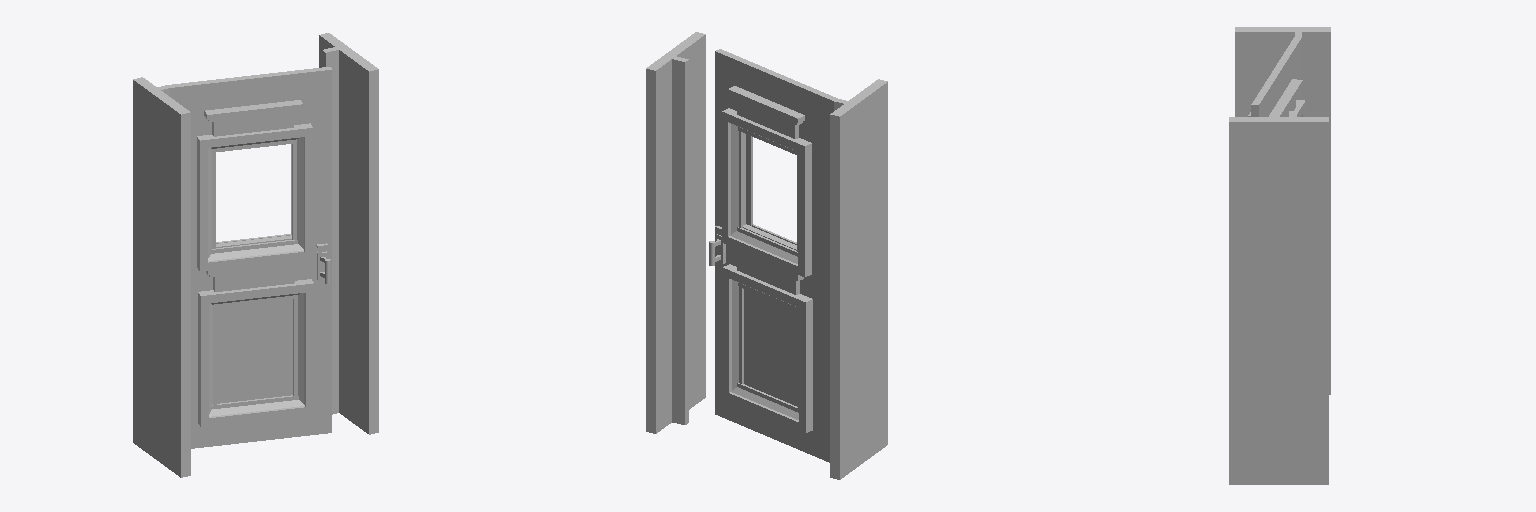
The model's file is Door opened classic N101218.obj.
3 renders of one model, left to right at view 1: azimuth 30°, elevation 25°; view 2: azimuth 150°, elevation 25°; view 3: azimuth 270°, elevation 25°, orthographic.
Parts seen in each view (by area): view 1: wall_1_74, wall_4_92, wall_5_98, wall_6_104, wall_4_91, wall_5_97, front_46_4, front_46_1, front_20_2, front_20_1, front_6_62, front_6_63 (+8 smaller); view 2: wall_4_92, wall_1_73, wall_7_110, wall_5_98, wall_6_103, wall_4_91, wall_7_109, front_46_2, front_46_3, slope_25_4, right_12_4, front_14_4 (+10 smaller); view 3: wall_5_97, wall_7_109, wall_4_91, wall_1_73.
Boxes of the visible parts, x1,y1,x2,y2 form: wall_1_74: [170, 70, 331, 448]; wall_4_92: [133, 80, 185, 477]; wall_5_98: [339, 50, 373, 434]; wall_6_104: [324, 50, 338, 414]; wall_4_91: [186, 112, 190, 476]; wall_5_97: [374, 69, 378, 433]; front_46_4: [215, 268, 294, 291]; front_46_1: [214, 113, 293, 136]; front_20_2: [201, 283, 313, 303]; front_20_1: [200, 128, 312, 148]; front_6_62: [201, 406, 313, 426]; front_6_63: [200, 251, 312, 271]; wall_4_92: [835, 82, 887, 479]; wall_1_73: [715, 51, 833, 462]; wall_7_110: [651, 59, 671, 433]; wall_5_98: [677, 35, 705, 409]; wall_6_103: [672, 59, 686, 424]; wall_4_91: [830, 115, 834, 478]; wall_7_109: [646, 69, 650, 432]; front_46_2: [737, 256, 795, 294]; front_46_3: [737, 100, 794, 138]; slope_25_4: [731, 124, 738, 234]; right_12_4: [805, 152, 811, 268]; front_14_4: [798, 152, 804, 268]; wall_5_97: [1229, 122, 1296, 484]; wall_7_109: [1296, 122, 1328, 484]; wall_4_91: [1235, 32, 1330, 394]; wall_1_73: [1255, 38, 1301, 116].
Bounding box in the file's own units: 236 × 420 × 107.